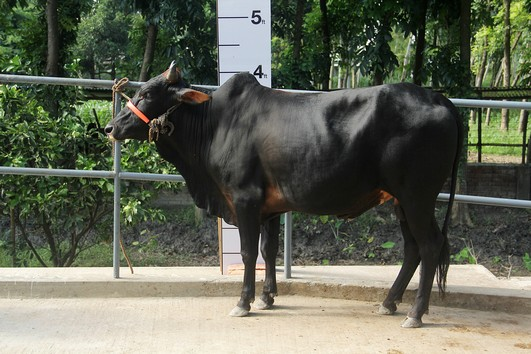cow: (103, 57, 467, 329)
